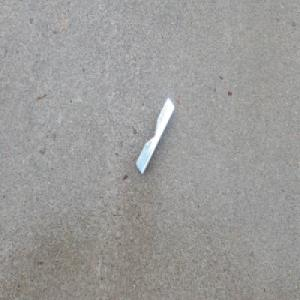ClampPart: (135, 96, 175, 176)
